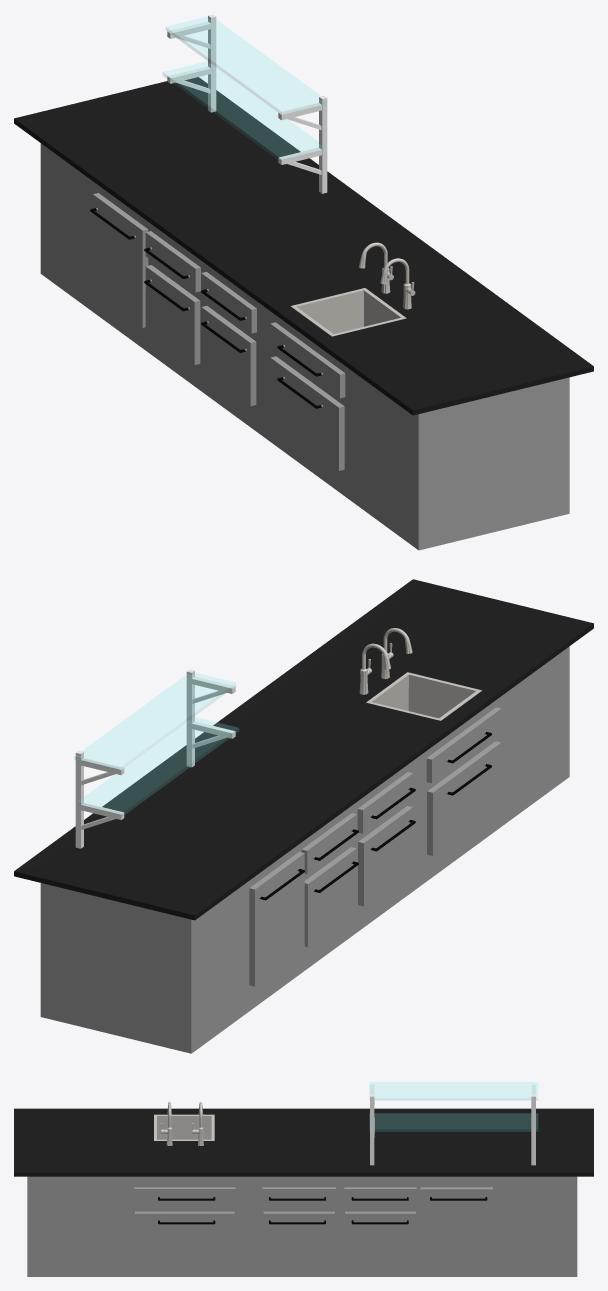
File: Table (1).glb
3 renders of one model, top to bottom at view 1: azimuth 30°, elevation 25°; view 2: azimuth 150°, elevation 25°; view 3: azimuth 270°, elevation 25°, orthographic. The views are drawn at different scales.
Parts seen in each view (by area): view 1: Cube.001, Cube, Cube (1), Table_left_middle.001, Rack_leg, Rack_leg.001; view 2: Cube.001, Cube, Cube (1), Table_left_middle.001, Rack_leg.001, Rack_leg; view 3: Cube.001, Cube, Cube (1), Table_left_middle.001, Rack_leg, Rack_leg.001.
Part boxes in pixels (<box>): Cube.001: <box>14,77,593,550</box>; Cube: <box>166,17,326,114</box>; Cube (1): <box>163,61,323,159</box>; Table_left_middle.001: <box>290,242,415,336</box>; Rack_leg: <box>208,14,216,112</box>; Rack_leg.001: <box>319,96,327,193</box>; Cube.001: <box>14,579,593,1053</box>; Cube: <box>74,673,235,770</box>; Cube (1): <box>78,717,238,815</box>; Table_left_middle.001: <box>359,628,481,720</box>; Rack_leg.001: <box>186,669,194,767</box>; Rack_leg: <box>75,750,83,848</box>; Cube.001: <box>14,1108,593,1276</box>; Cube: <box>369,1082,537,1100</box>; Cube (1): <box>369,1113,537,1131</box>; Table_left_middle.001: <box>154,1102,214,1145</box>; Rack_leg: <box>531,1094,535,1165</box>; Rack_leg.001: <box>370,1094,374,1165</box>.
Bounding box in the file's own units: 1.59 × 2.06 × 6.07.
